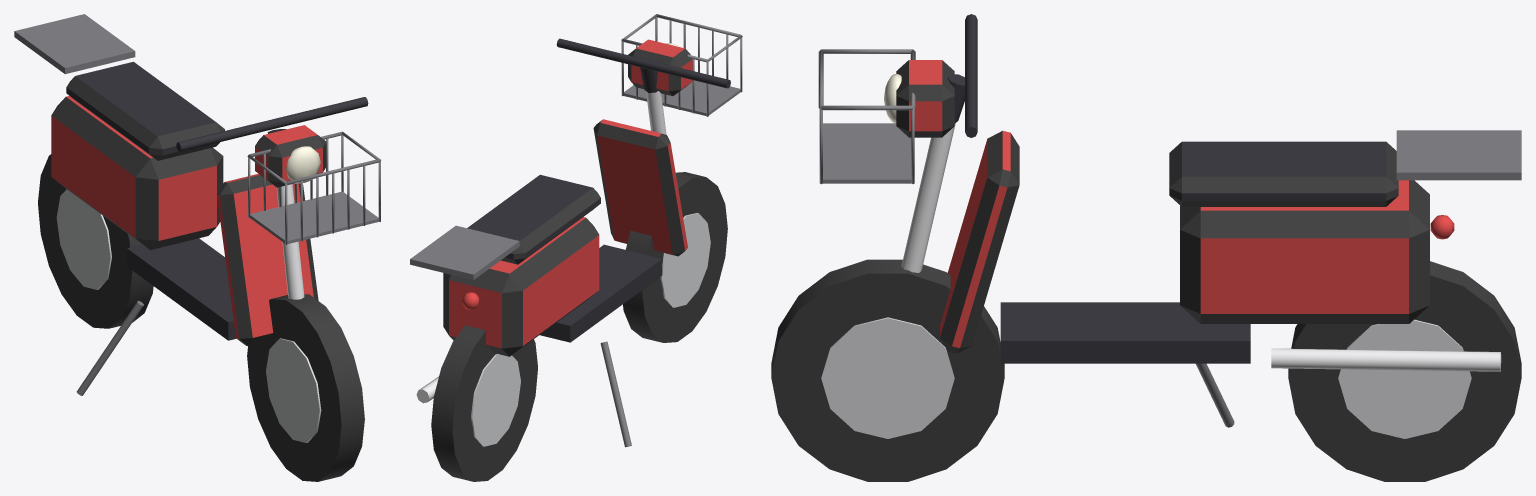
The model's file is SM_Scooter.fbx.
The picture shows the model from 3 angles, left to right: view 1: azimuth 30°, elevation 25°; view 2: azimuth 150°, elevation 25°; view 3: azimuth 270°, elevation 25°; orthographic projection. The views are drawn at different scales.
Parts seen in each view (by area): view 1: SM_Scooter; view 2: SM_Scooter; view 3: SM_Scooter.
Boxes of the visible parts, left/top/right/bottom form: SM_Scooter: left=14, top=14, right=381, bottom=481; SM_Scooter: left=410, top=14, right=742, bottom=481; SM_Scooter: left=771, top=14, right=1521, bottom=481.
Bounding box in the file's own units: 0.64 × 1.08 × 1.8.
